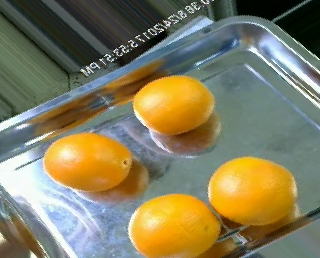Orange: (207, 154, 299, 228), (126, 192, 222, 258), (44, 132, 132, 191), (132, 74, 216, 135)
